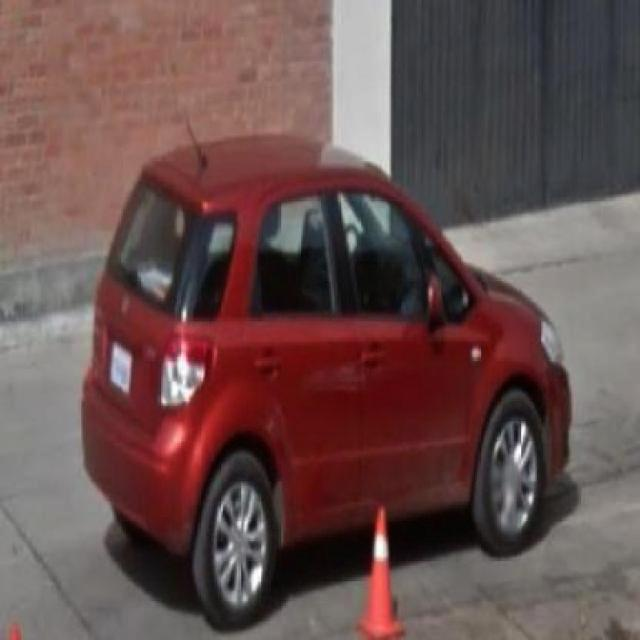car: (78, 130, 574, 632)
